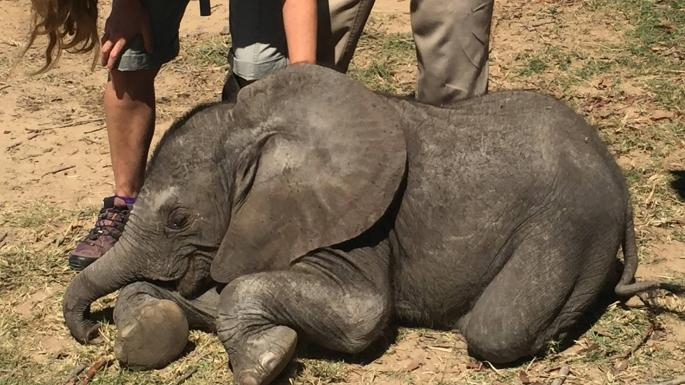elephant: (65, 62, 652, 385)
